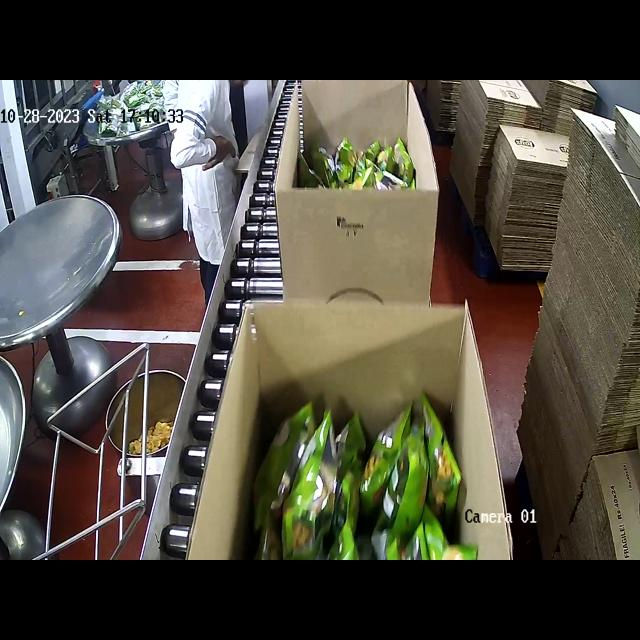yogurt: (252, 391, 475, 558), (294, 141, 414, 182)
